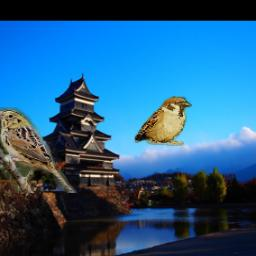Sparrow: (0, 108, 76, 194), (134, 97, 191, 147)
